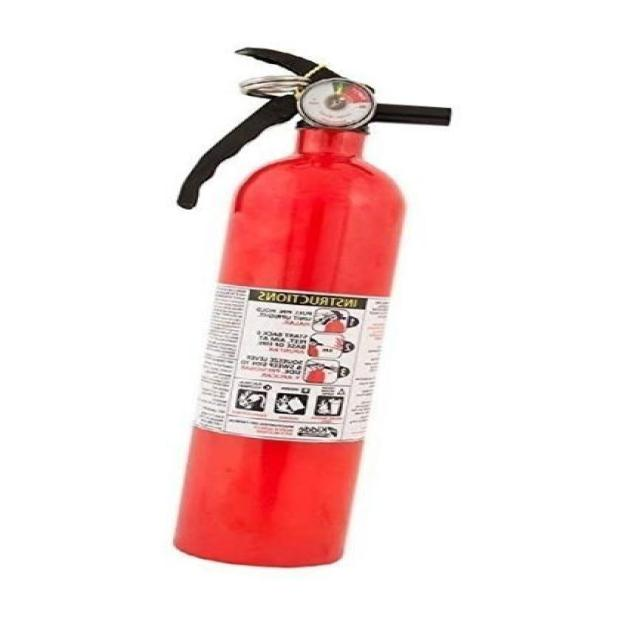fire_extinguisher: (164, 40, 460, 572)
